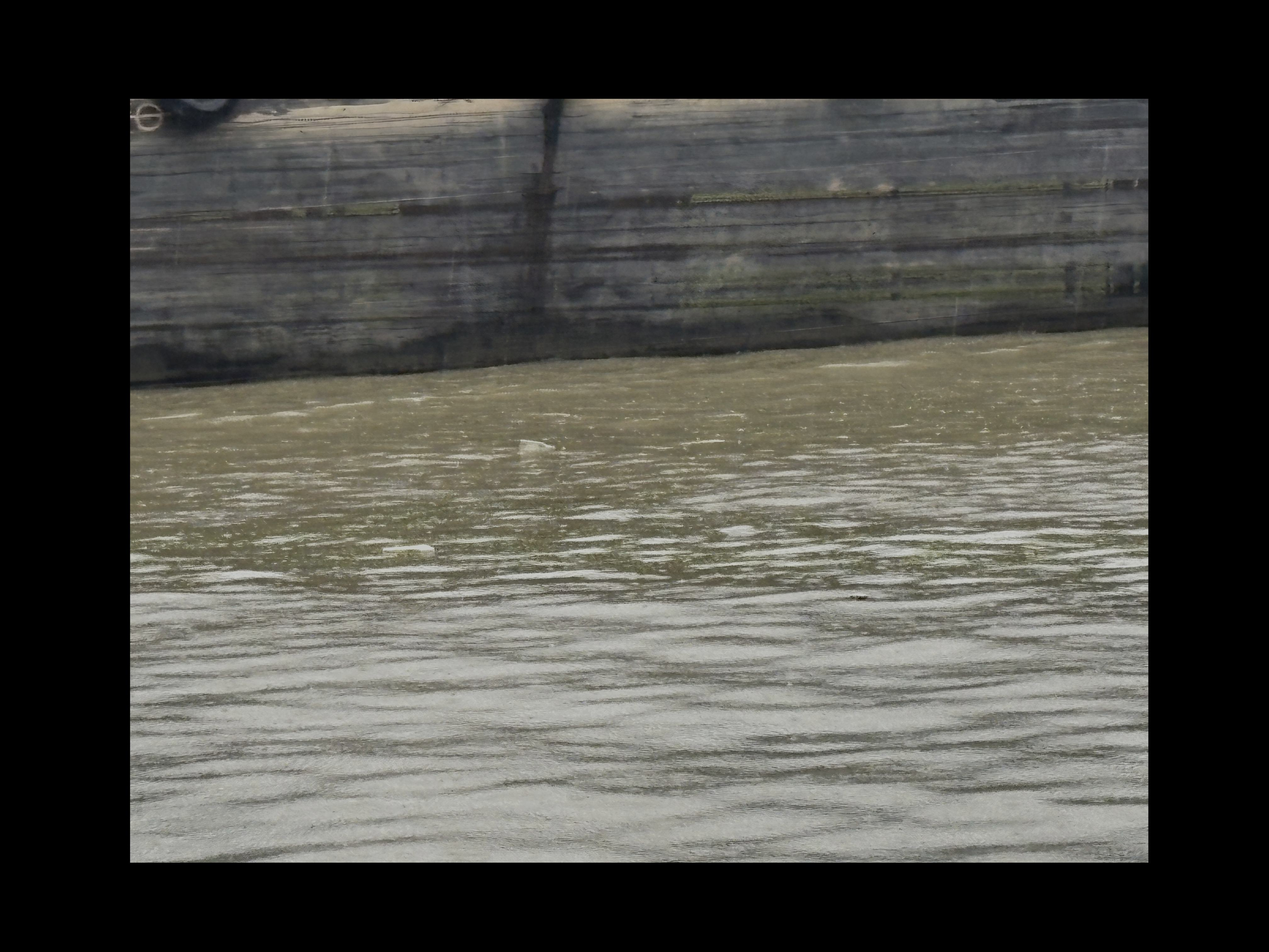Plastic wastes: (514, 437, 556, 451), (383, 544, 434, 553), (847, 592, 866, 600)
